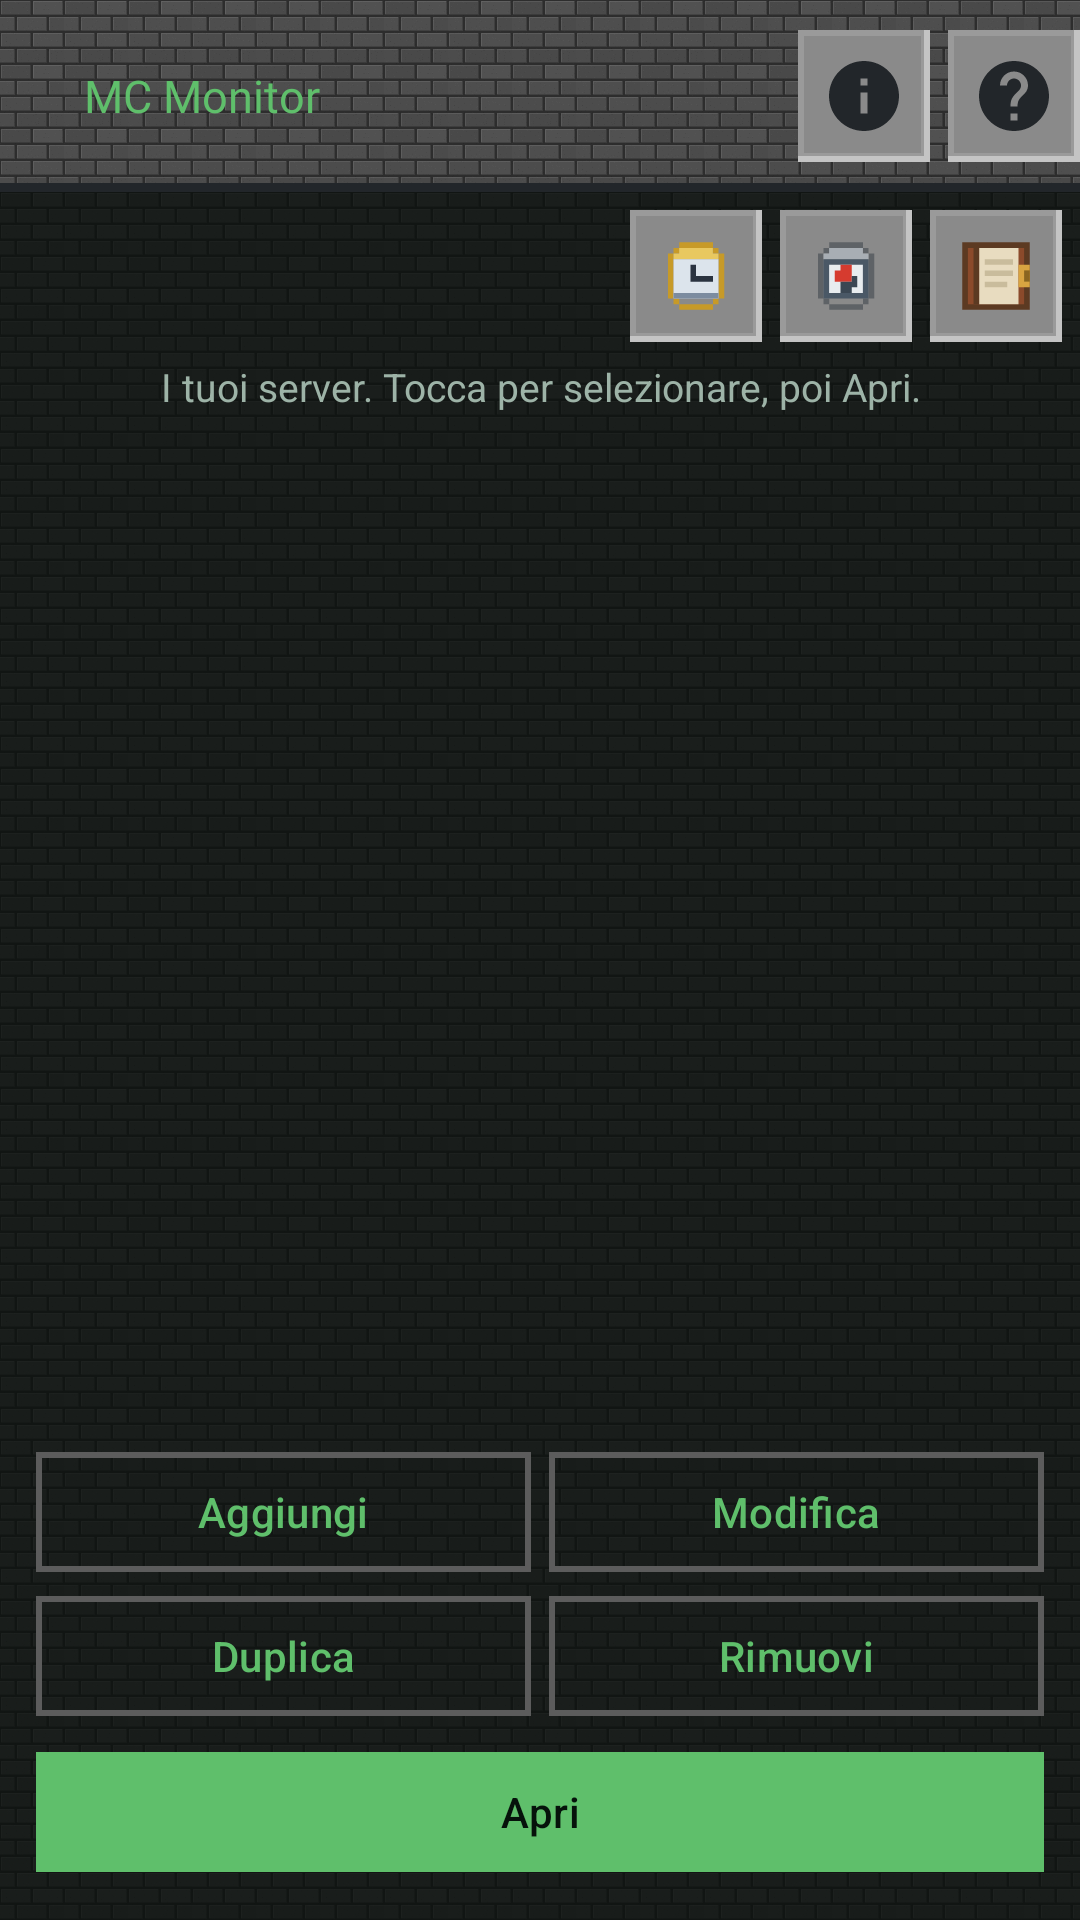

Where icons sit on this 1080px x 1920px app screen, as (x1, y1, x2, y2):
Aiuto su questa pagina: (948, 30, 1080, 162)
Informazioni sull'applicazione: (798, 30, 930, 162)
Manuale d'uso: (930, 210, 1062, 342)
Ordina per data di creazione: (630, 210, 762, 342)
